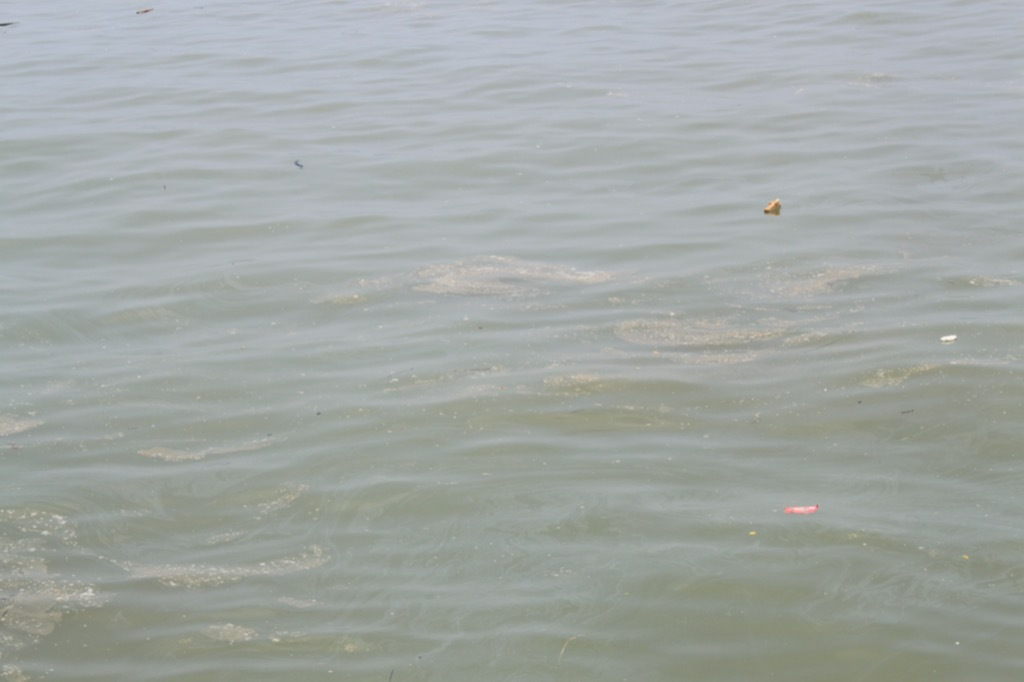organic: (119, 1, 166, 17), (1, 13, 29, 39), (286, 151, 312, 178), (154, 178, 176, 202)
plastic: (767, 488, 829, 532), (750, 185, 798, 233), (932, 329, 962, 353)
